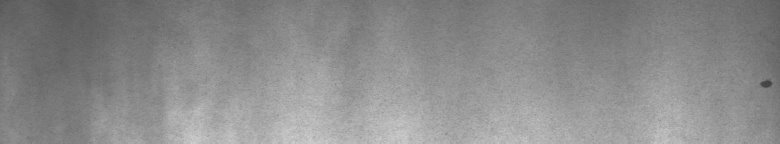fi: (757, 72, 775, 96)
